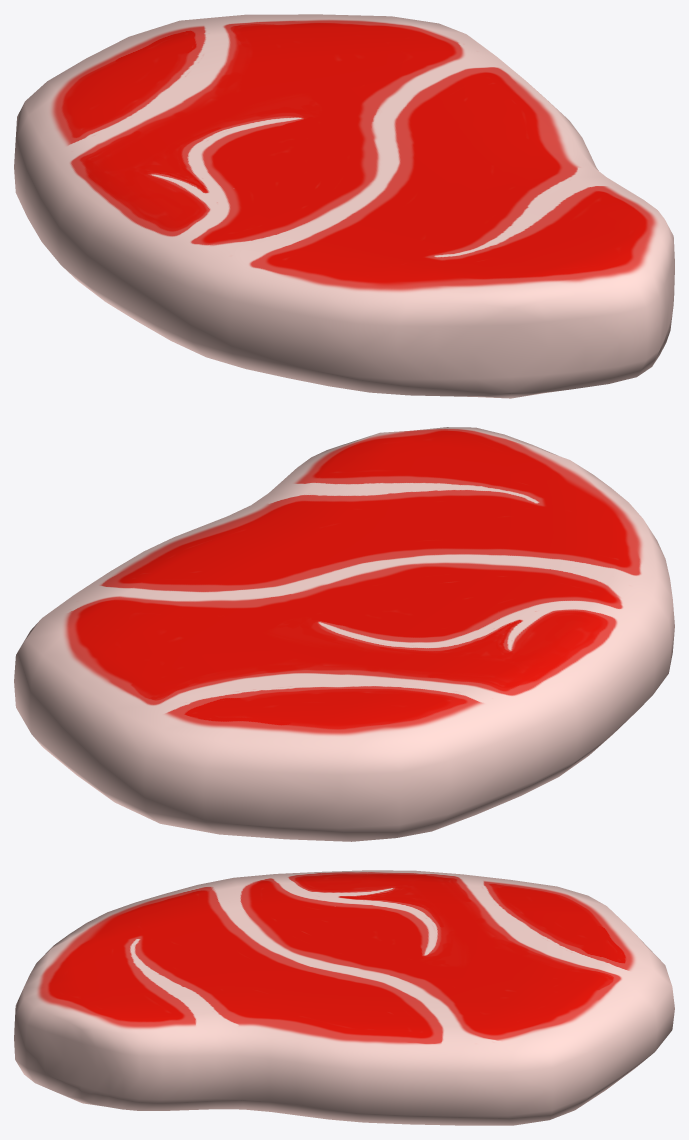
File: Steak.fbx
The picture shows the model from 3 angles, top to bottom: view 1: azimuth 30°, elevation 25°; view 2: azimuth 150°, elevation 25°; view 3: azimuth 270°, elevation 25°; orthographic projection. The views are drawn at different scales.
Visible parts, largest first — view 1: Steak; view 2: Steak; view 3: Steak.
Boxes of the visible parts, x1=… form: Steak: x1=14, y1=14, x2=674, y2=398; Steak: x1=14, y1=427, x2=674, y2=841; Steak: x1=14, y1=870, x2=674, y2=1125.
Bounding box in the file's own units: 323 × 69.76 × 464.
